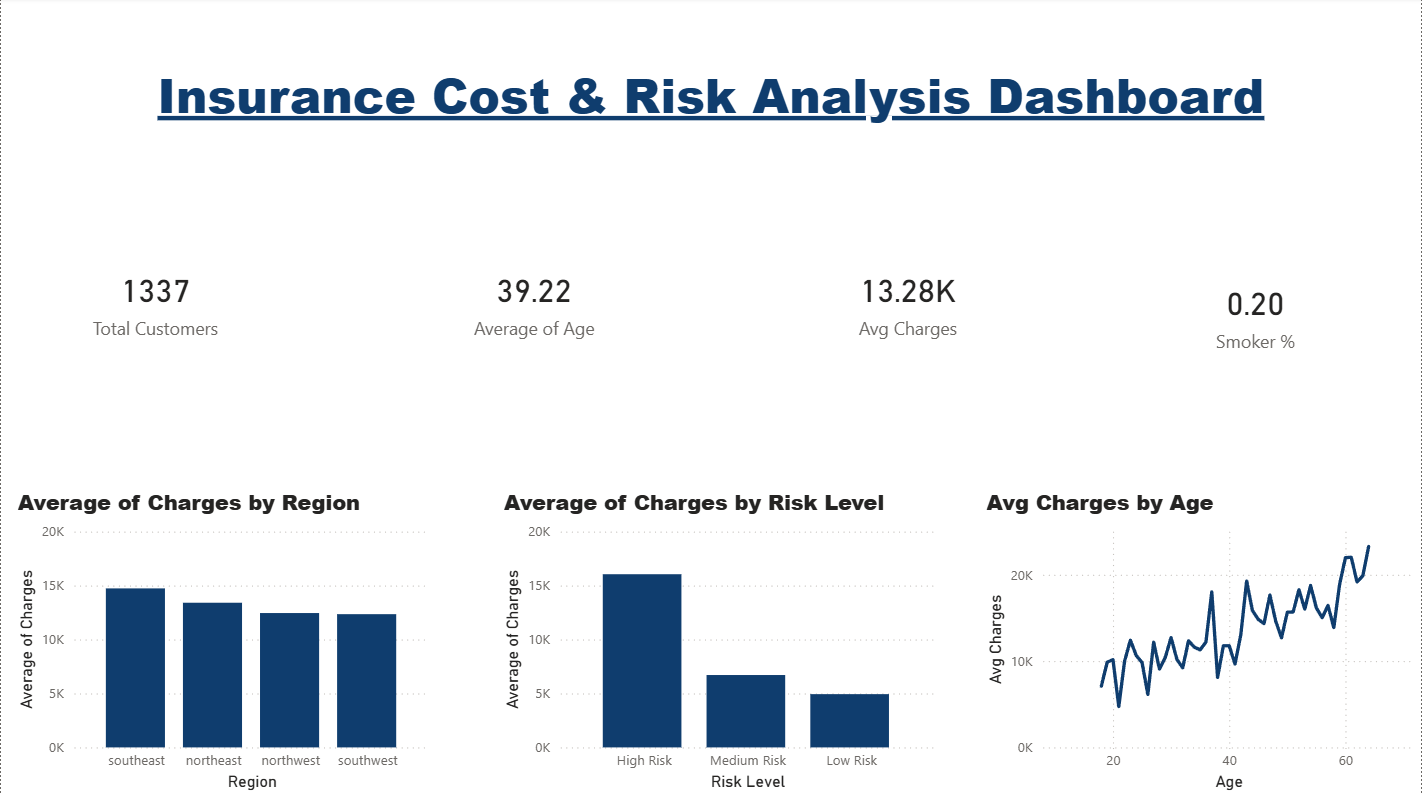

This screenshot's page, from the dashboard's own definition file:
{"tool":"powerbi","page":{"name":"Page 1 ","canvas":[1280,720],"ordinal":0},"visuals":[{"type":"card","fields":{"Values":["insurance.Total Customers"]},"box":[50.1,189.5,179.8,170],"z":0},{"type":"card","fields":{"Values":["Avg(insurance.Age)"]},"box":[391.3,189.5,179.8,170],"z":1000},{"type":"card","fields":{"Values":["insurance.Avg Charges"]},"box":[727.6,189.5,179.8,170],"z":2000},{"type":"card","fields":{"Values":["insurance.Smoker %"]},"box":[1041.9,200.5,179.8,170],"z":3000},{"type":"columnChart","fields":{"Category":["insurance.Region"],"Y":["Avg(insurance.Charges)"]},"box":[9.8,441.4,381.5,278.8],"z":4000},{"type":"clusteredColumnChart","fields":{"Y":["Avg(insurance.Charges)"],"Category":["insurance.Risk Level"]},"box":[448.8,441.4,398.6,278.8],"z":5000},{"type":"lineChart","fields":{"Category":["insurance.Age"],"Y":["insurance.Avg Charges"]},"box":[884.1,441.4,396.2,278.8],"z":6000},{"type":"textbox","box":[0,0,1280.3,170],"z":7000}]}

Visuals, with their boxes in screenshot pixels (x1, y1, x2, y2), scaled from the page's 1280x720 canvas onto the 1422x794 screenshot:
card - insurance.Total Customers: 56/209/255/396
card - Avg(insurance.Age): 435/209/634/396
card - insurance.Avg Charges: 808/209/1008/396
card - insurance.Smoker %: 1157/221/1357/409
columnChart - insurance.Region x Avg(insurance.Charges): 11/487/435/793
clusteredColumnChart - Avg(insurance.Charges) x insurance.Risk Level: 499/487/941/793
lineChart - insurance.Age x insurance.Avg Charges: 982/487/1421/793
textbox: 0/0/1421/187
